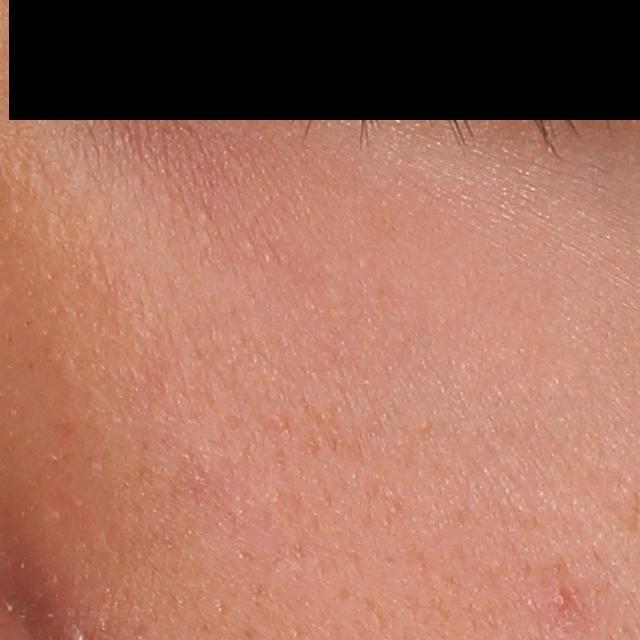papule: (545, 582, 574, 611)
